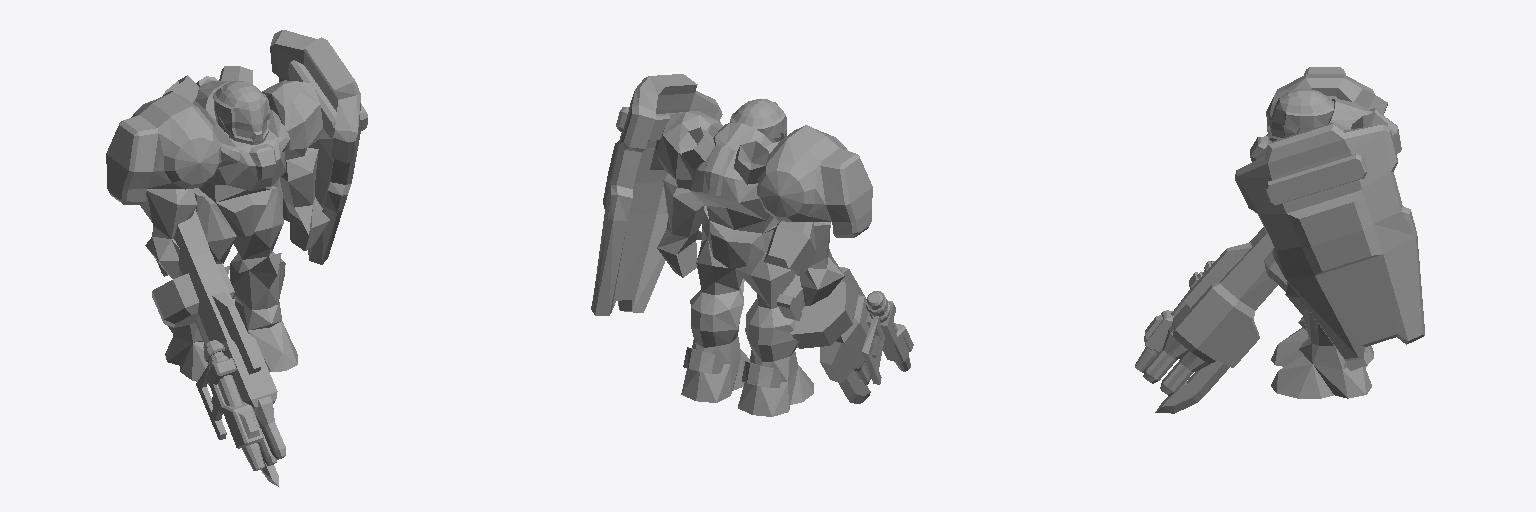
File: Marine.obj
3 renders of one model, left to right at view 1: azimuth 30°, elevation 25°; view 2: azimuth 150°, elevation 25°; view 3: azimuth 270°, elevation 25°, orthographic.
Parts seen in each view (by area): view 1: Shadow_MarineCommando.m3_fixed.m3.004; view 2: Shadow_MarineCommando.m3_fixed.m3.004; view 3: Shadow_MarineCommando.m3_fixed.m3.004.
Part boxes in pixels (x1,y1,x2,y2): Shadow_MarineCommando.m3_fixed.m3.004: (106,30,367,486); Shadow_MarineCommando.m3_fixed.m3.004: (591,74,913,416); Shadow_MarineCommando.m3_fixed.m3.004: (1135,67,1424,413).
Bounding box in the file's own units: 0.7653 × 1.09 × 0.8088.